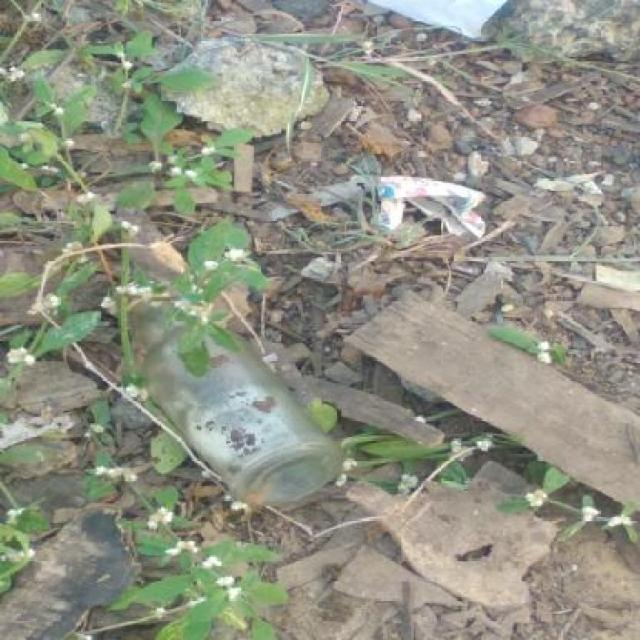garbage: (52, 251, 436, 538), (276, 136, 472, 283)
